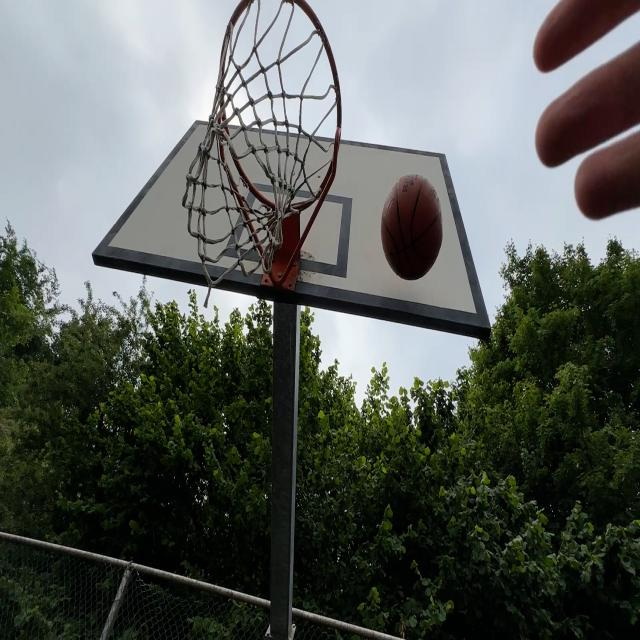Basketball: (380, 173, 444, 280)
